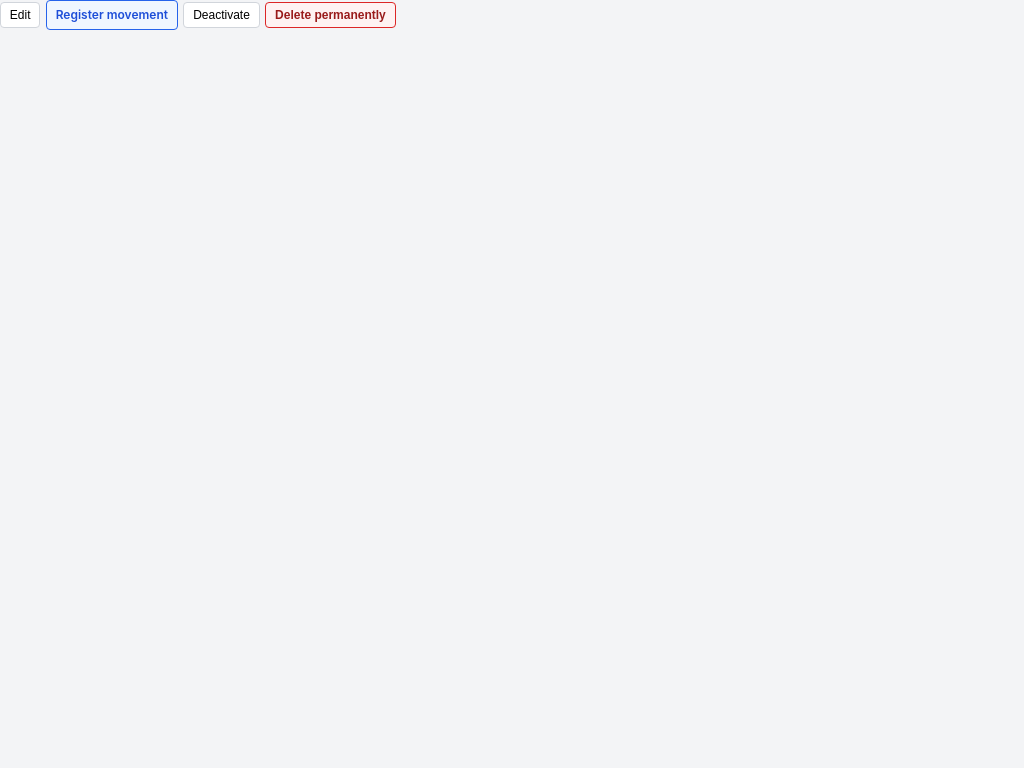
Test: ProductRowActions › shows a confirmation modal before deleting permanently
The image size is (1024, 768).
Click the button "Delete permanently".
click(330, 15)  # box [265,2,396,28]
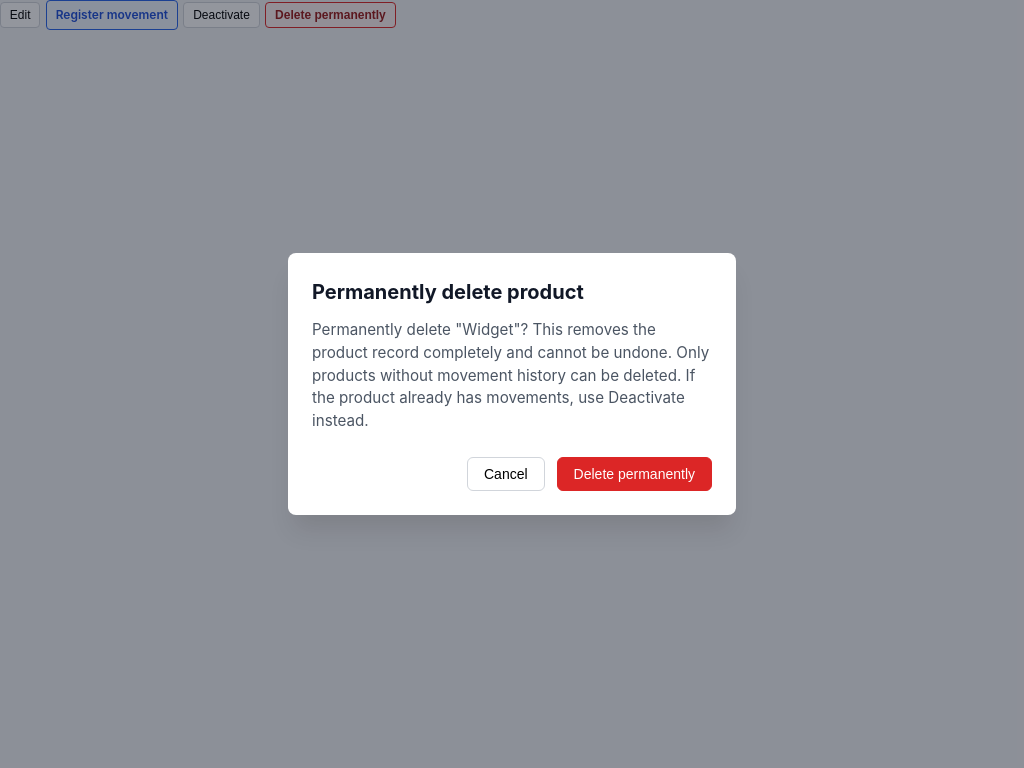
Result: the dialog is shown at [288,253,736,515]
Result: the heading "Permanently delete product" is shown at [312,280,584,304]
